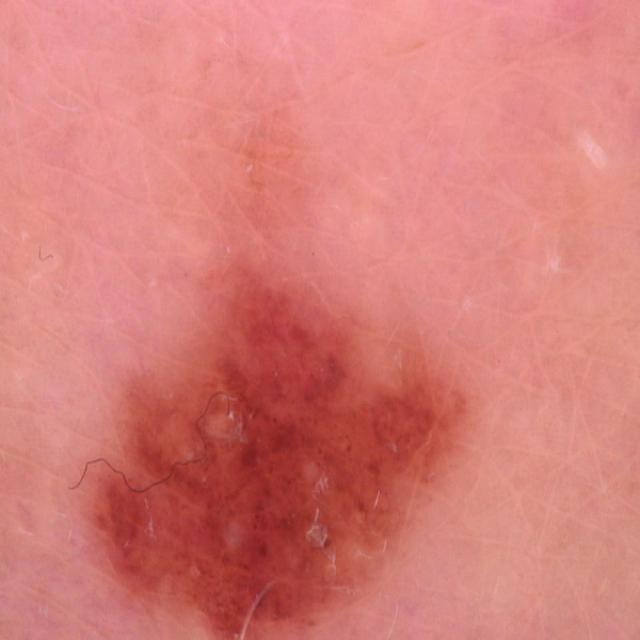NV: (83, 263, 471, 636)
